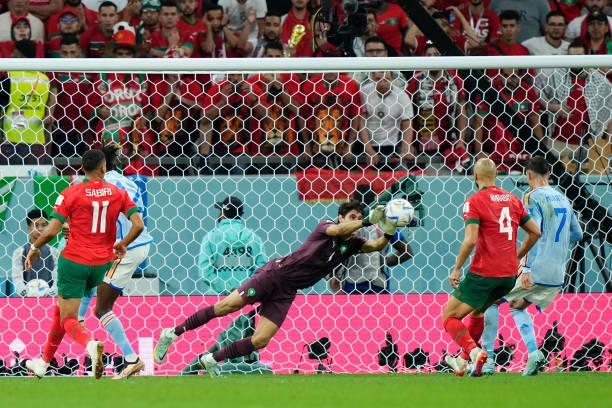Goalkeeper: (154, 200, 397, 377)
Player: (25, 149, 145, 378), (442, 158, 540, 376), (508, 157, 573, 376), (94, 226, 153, 380), (102, 143, 145, 213), (117, 214, 130, 240)
ball: (385, 198, 414, 226)
